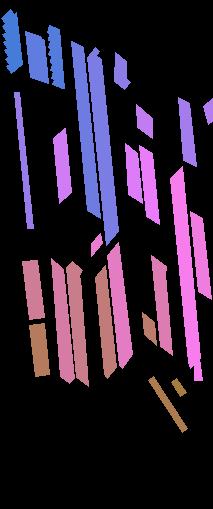parkingspot: (87, 47, 118, 245), (170, 166, 200, 368), (71, 41, 100, 218), (107, 242, 132, 368), (51, 258, 74, 383), (66, 261, 88, 386), (14, 92, 33, 228), (95, 265, 116, 378), (148, 376, 187, 432), (151, 255, 172, 355), (190, 211, 211, 299), (139, 145, 159, 224), (53, 128, 71, 203), (1, 9, 22, 73), (22, 260, 44, 319), (178, 97, 196, 166), (25, 31, 48, 83), (47, 25, 64, 88), (29, 323, 49, 376), (125, 143, 142, 203), (114, 52, 130, 89), (136, 104, 152, 138), (142, 312, 156, 345), (171, 378, 186, 396), (203, 98, 213, 124), (91, 233, 102, 256), (194, 358, 202, 380)
